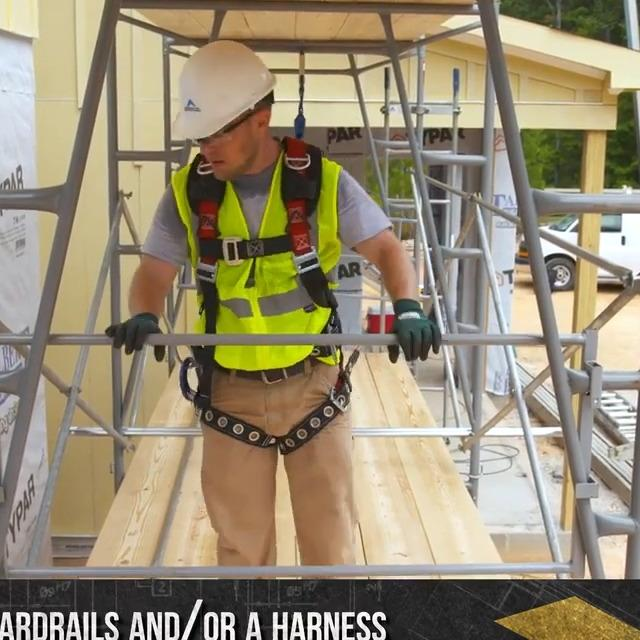Gloves: (388, 299, 440, 368), (103, 314, 168, 362)
Hardhat: (169, 39, 277, 142)
Ladder: (595, 388, 640, 486)
NO-Mask: (212, 145, 258, 180)
Person: (102, 40, 440, 579)
Safety Vest: (171, 143, 345, 365)
vehicle: (512, 186, 640, 297)
